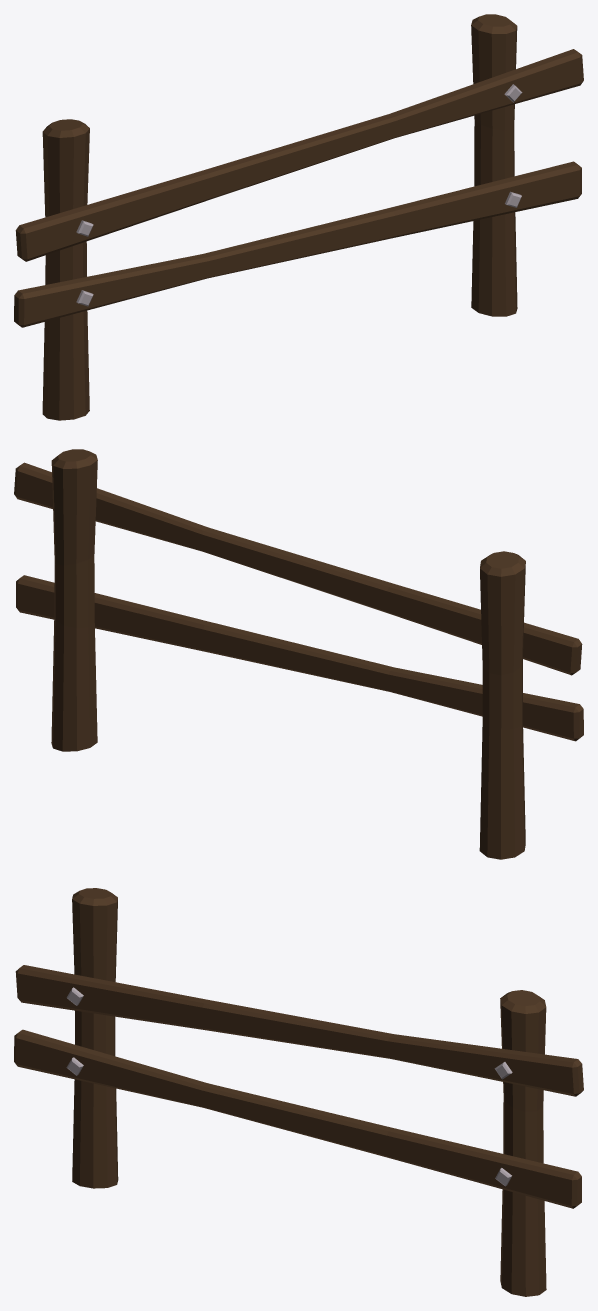
File: Fence1.fbx
3 views of the same model, one above another, from view 1: azimuth 30°, elevation 25°; view 2: azimuth 150°, elevation 25°; view 3: azimuth 330°, elevation 25° (orthographic).
Visible parts, largest first — view 1: Fence, Nails; view 2: Fence; view 3: Fence, Nails.
Boxes of the visible parts, x1=… form: Fence: x1=14, y1=14, x2=583, y2=420; Nails: x1=76, y1=84, x2=522, y2=306; Fence: x1=14, y1=449, x2=583, y2=859; Fence: x1=14, y1=888, x2=583, y2=1296; Nails: x1=66, y1=987, x2=512, y2=1186.
Bounding box in the file's own units: 1326 × 653 × 134.
